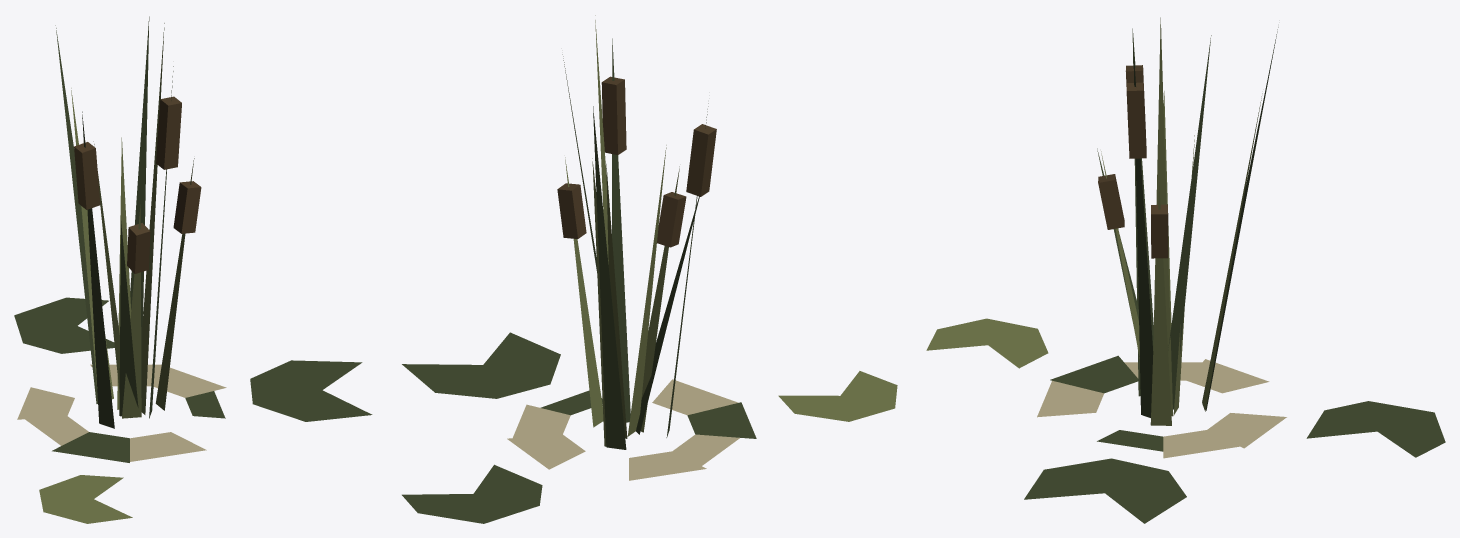
The model's file is drowned_float_reeds.glb.
3 views of the same model, side by side, from view 1: azimuth 30°, elevation 25°; view 2: azimuth 150°, elevation 25°; view 3: azimuth 270°, elevation 25° (orthographic). The views are drawn at different scales.
Parts seen in each view (by area): view 1: drowned_float_reeds; view 2: drowned_float_reeds; view 3: drowned_float_reeds.
Boxes of the visible parts, x1=… form: drowned_float_reeds: x1=14, y1=16, x2=372, y2=523; drowned_float_reeds: x1=402, y1=15, x2=897, y2=523; drowned_float_reeds: x1=926, y1=17, x2=1445, y2=523.
Size of the model in its own units: 0.9992 by 0.9385 by 1.07.
